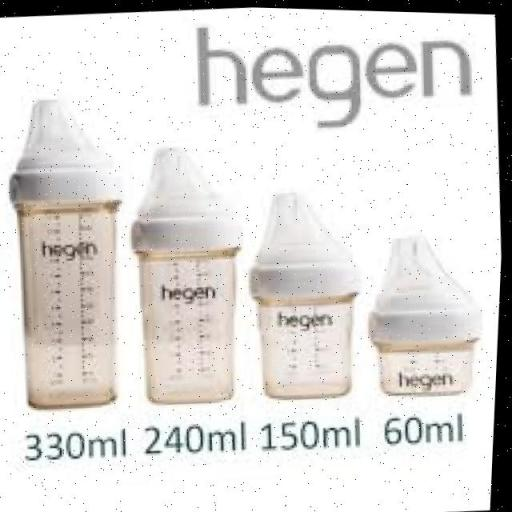plastic: (0, 92, 147, 434)
